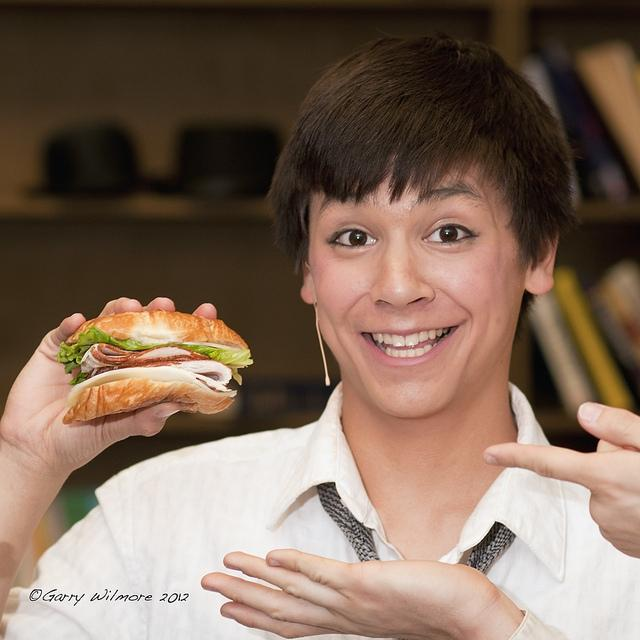lettuce: (58, 326, 166, 374)
